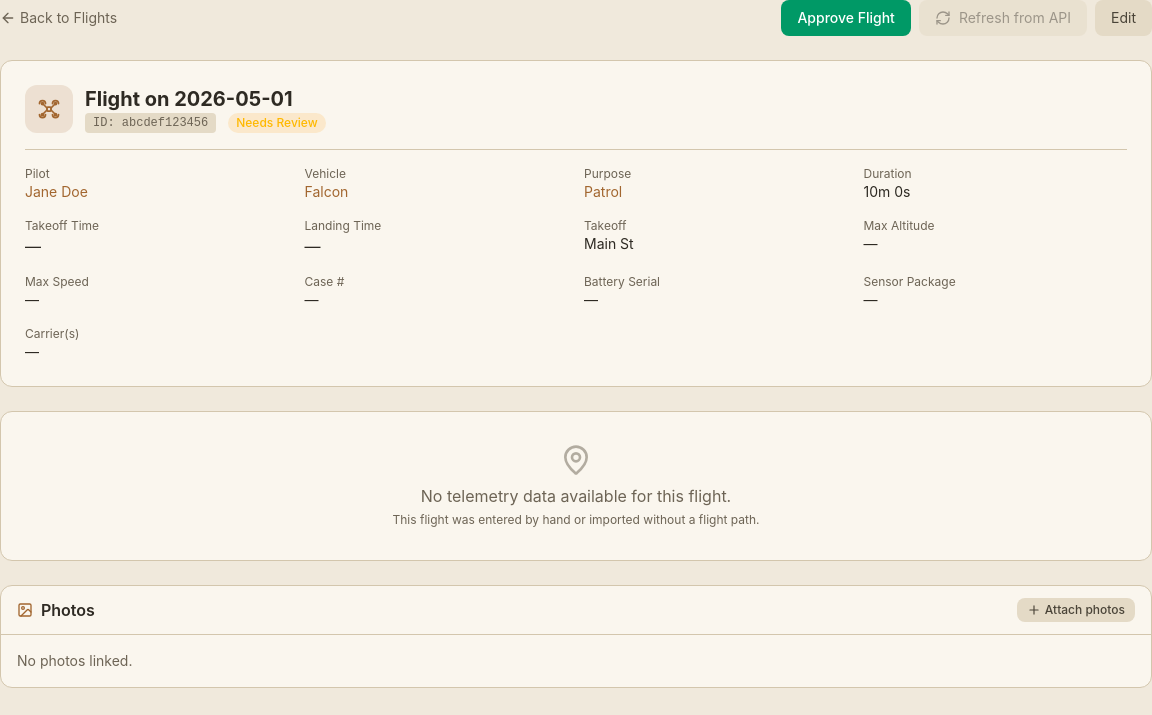
FlightDetailPage › keeps the field order and container when switching into edit mode
Expected: the heading "Flight on 2026-05-01" is shown, [85, 85, 326, 113]
Click the button "Edit".
click(1124, 18)  # box [1095, 0, 1151, 36]
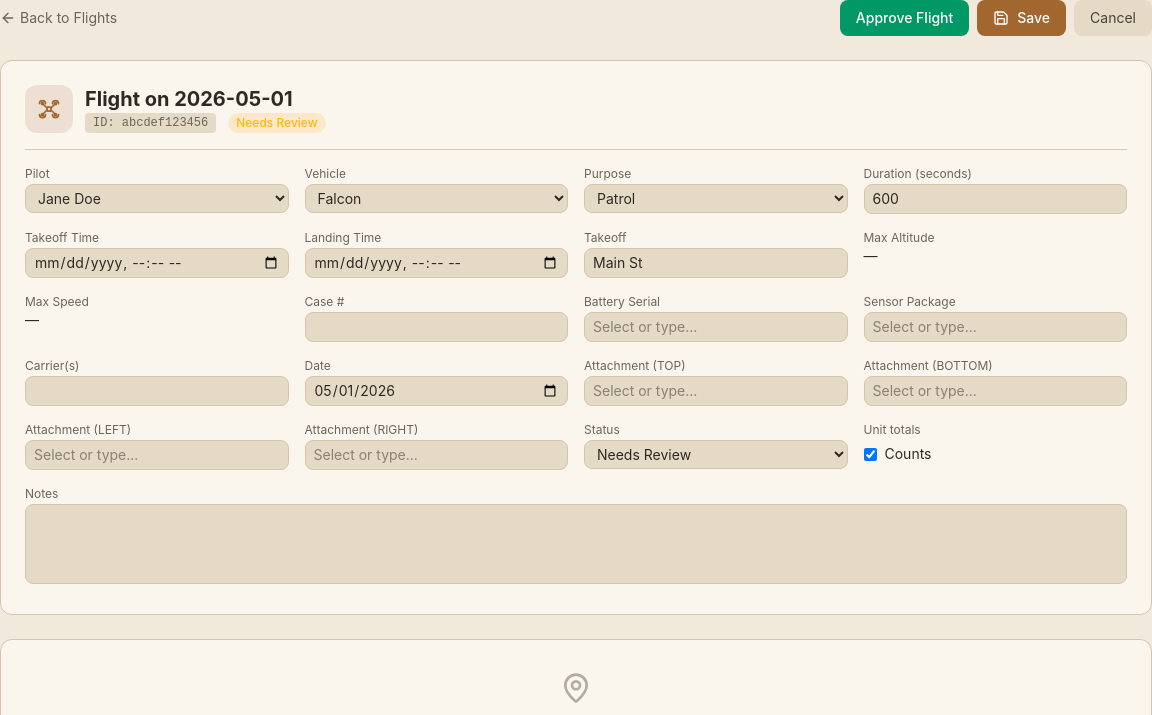
Expected: the label "Notes" is shown, [25, 486, 58, 501]
